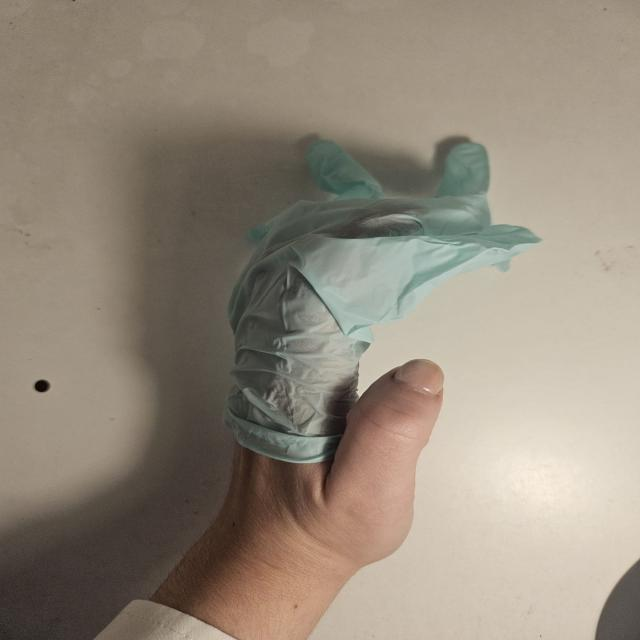glove_partial: (221, 139, 543, 562)
